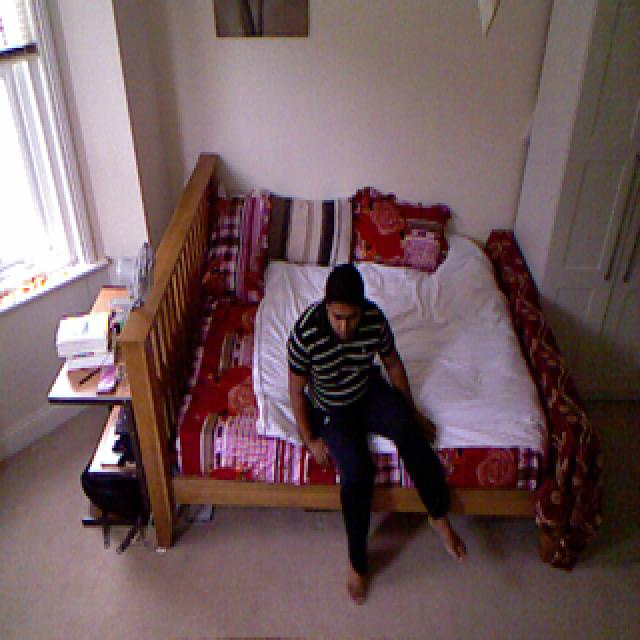sitting: (279, 254, 474, 605)
